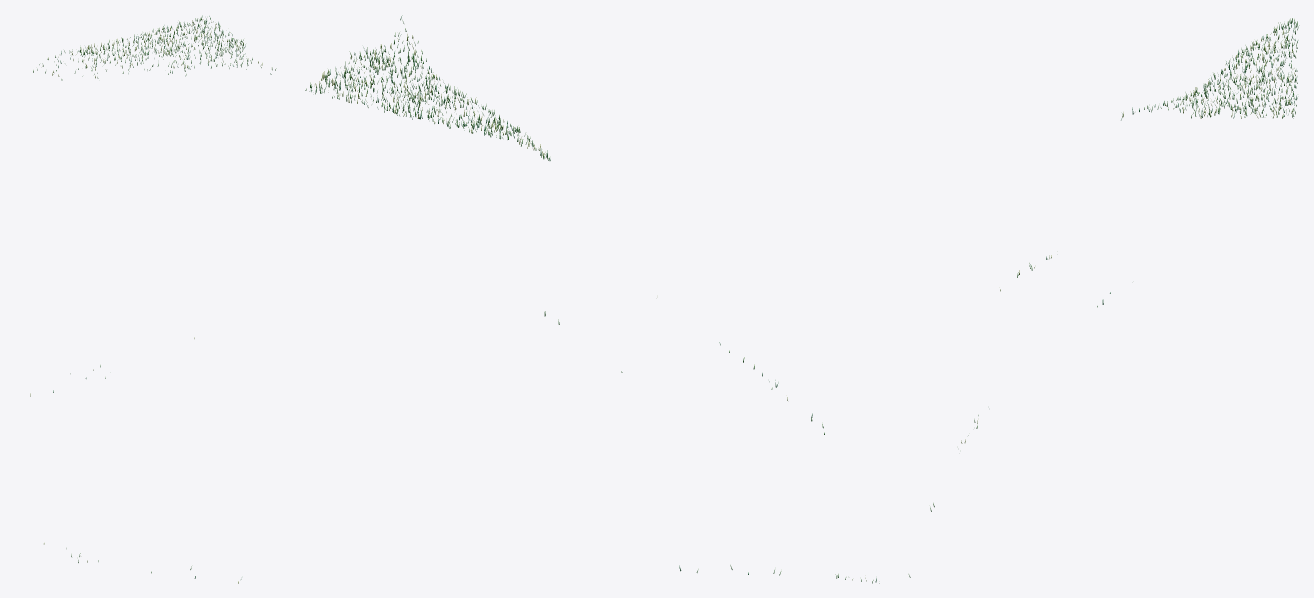
The picture shows the model from 3 angles, left to right: view 1: azimuth 30°, elevation 25°; view 2: azimuth 150°, elevation 25°; view 3: azimuth 270°, elevation 25°; orthographic projection. The views are drawn at different scales.
Parts seen in each view (by area): view 1: gc_50; view 2: gc_50; view 3: gc_50.
Boxes of the visible parts, x1,y1,x2,y2 form: gc_50: (30, 15, 276, 583); gc_50: (305, 15, 879, 583); gc_50: (908, 18, 1299, 577).
Bounding box in the file's own units: 17.99 × 25.53 × 16.56.
Materials: 1 (1 with a texture image).
